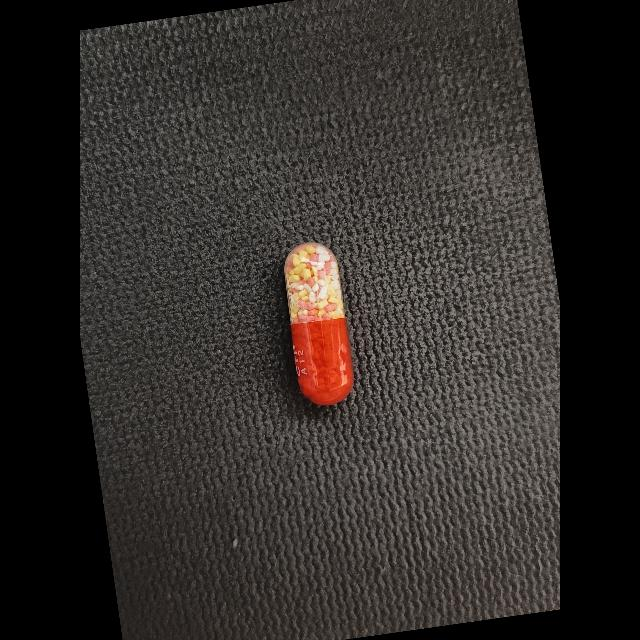Intact Capsule: (284, 242, 354, 405)
